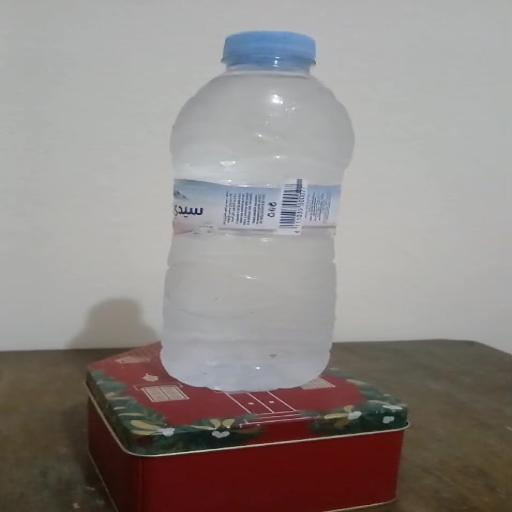bouteille conformite: (143, 20, 347, 386)
